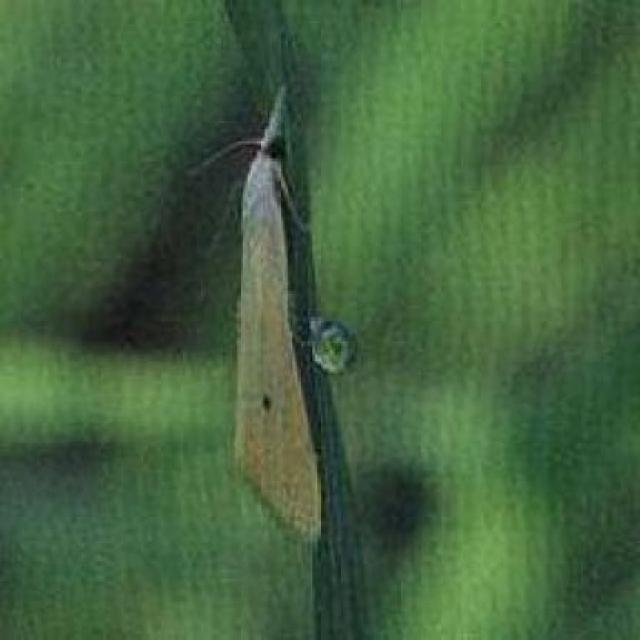stem-borer: (190, 78, 324, 556)
